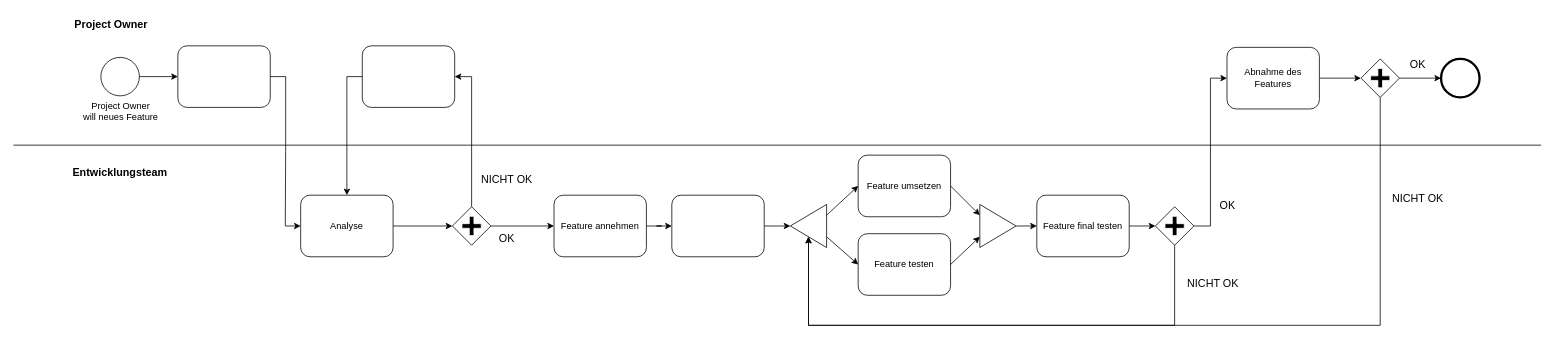
This 1555x345 diagram has some shape labels left out. Each missing label, with the centre of its shape:
"Feature ist fertig" belongs at (x=1460, y=77).
"Neues Feature vorstellen" belongs at (x=223, y=76).
"Rücksprache" belongs at (x=408, y=76).
"Umsetzung planen" belongs at (x=717, y=225).
